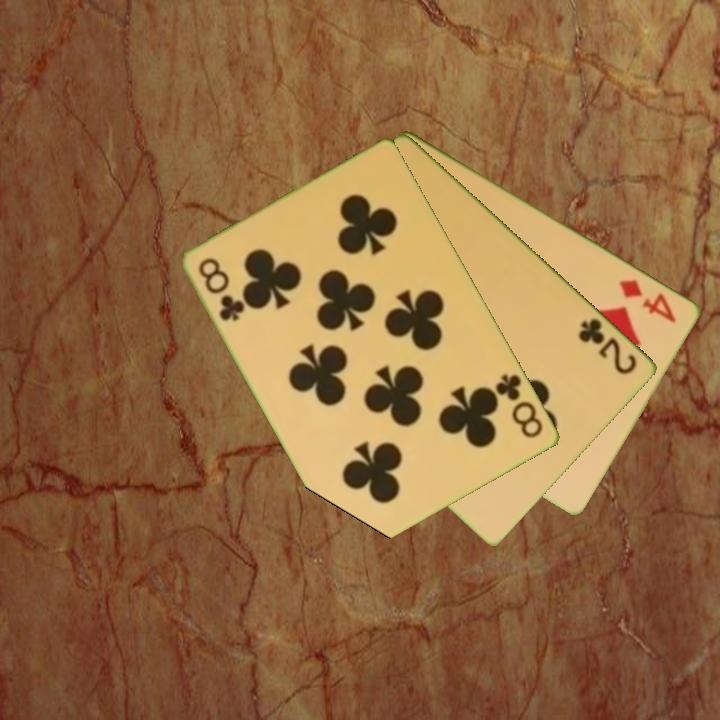2c: (575, 314, 641, 377)
4d: (616, 275, 680, 326)
8c: (492, 370, 547, 442), (195, 254, 248, 325)
